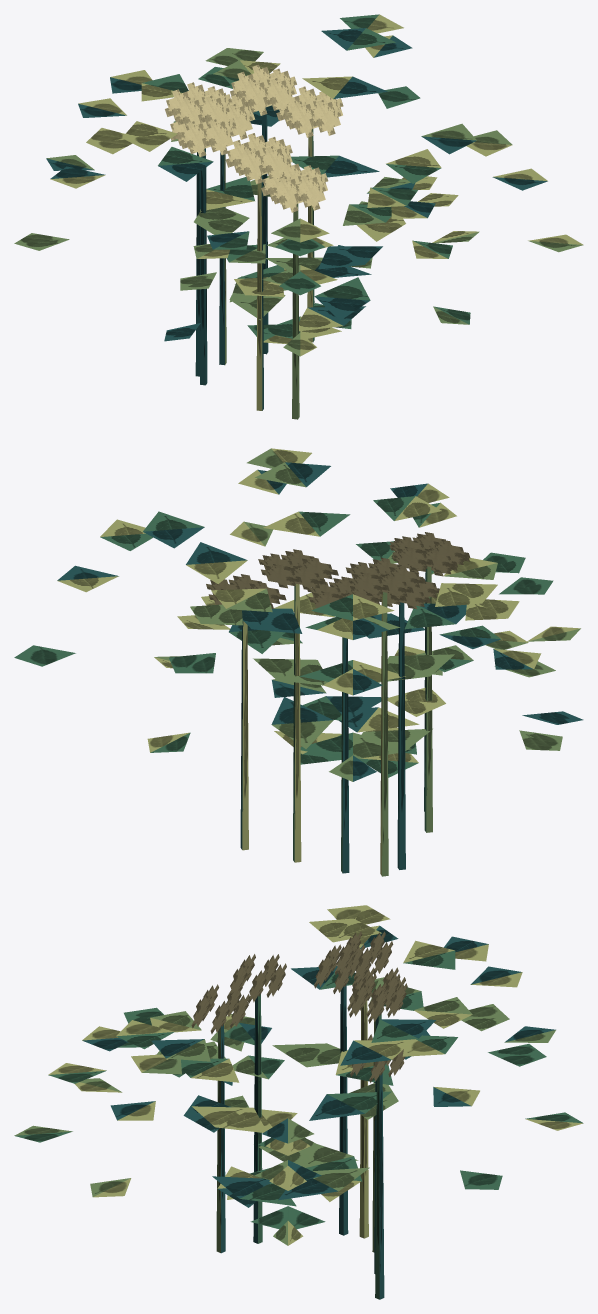
Rendered from woodland_flowers.glb.
3 renders of one model, top to bottom at view 1: azimuth 30°, elevation 25°; view 2: azimuth 150°, elevation 25°; view 3: azimuth 270°, elevation 25°, orthographic. The views are drawn at different scales.
Parts seen in each view (by area): view 1: woodland_flowers; view 2: woodland_flowers; view 3: woodland_flowers.
Boxes of the visible parts, x1,y1,x2,y2 form: woodland_flowers: (14, 14, 583, 419); woodland_flowers: (14, 448, 583, 876); woodland_flowers: (14, 905, 583, 1299).
Size of the model in its own units: 0.9385 by 0.5704 by 0.9922.
1 material, 1 textured.
